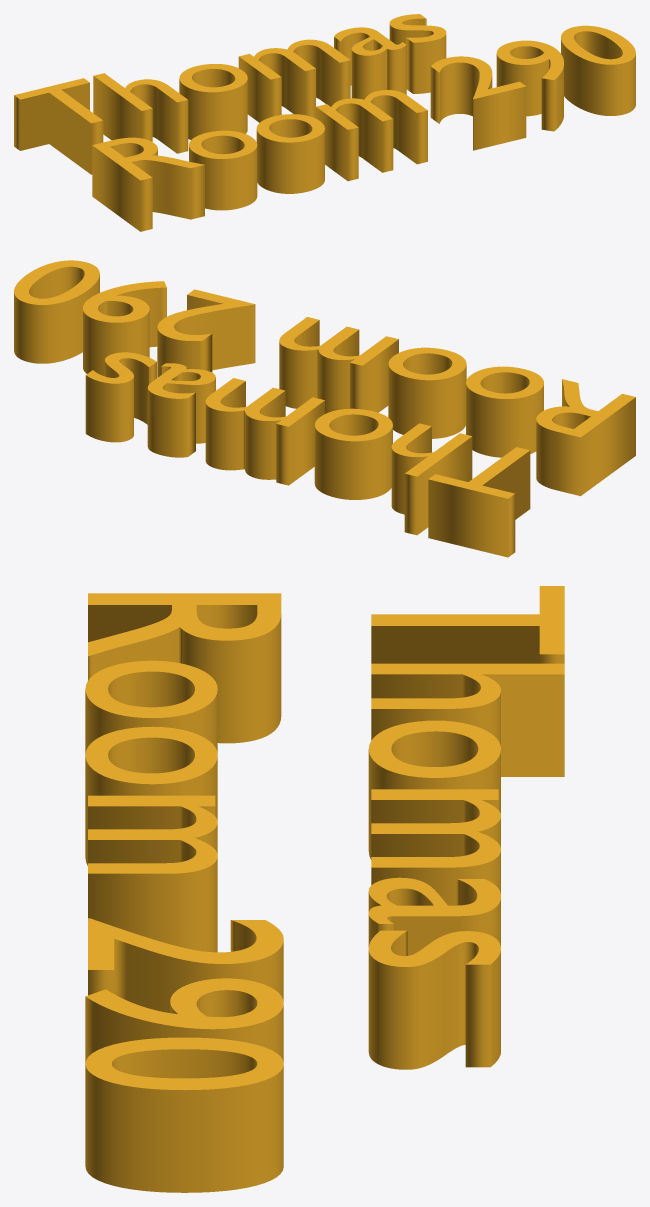
The model's file is thomas-290.gltf.
3 renders of one model, top to bottom at view 1: azimuth 30°, elevation 25°; view 2: azimuth 150°, elevation 25°; view 3: azimuth 270°, elevation 25°, orthographic. The views are drawn at different scales.
Visible parts, largest first — view 1: Text; view 2: Text; view 3: Text.
Part boxes in pixels (x1,y1,x2,y2): Text: [14, 14, 635, 231]; Text: [14, 260, 635, 557]; Text: [85, 586, 564, 1192].
Size of the model in its own units: 4.21 by 0.4 by 1.69.
